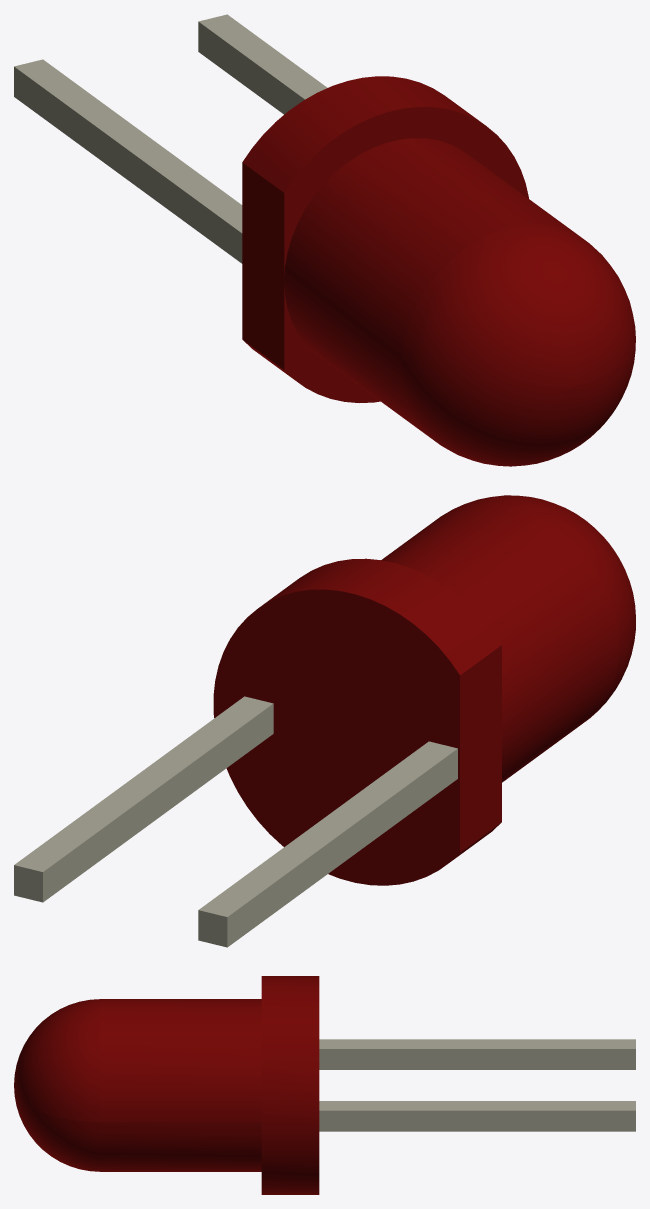
The model's file is led_d3.0mm.glb.
3 renders of one model, top to bottom at view 1: azimuth 30°, elevation 25°; view 2: azimuth 150°, elevation 25°; view 3: azimuth 270°, elevation 25°, orthographic. The views are drawn at different scales.
Parts seen in each view (by area): view 1: LED_D3.0mm; view 2: LED_D3.0mm; view 3: LED_D3.0mm.
Part boxes in pixels (<box>): LED_D3.0mm: <box>14,14,635,466</box>; LED_D3.0mm: <box>14,495,635,947</box>; LED_D3.0mm: <box>14,976,635,1194</box>.
Size of the model in its own units: 3.4 by 3.8 by 10.8.
